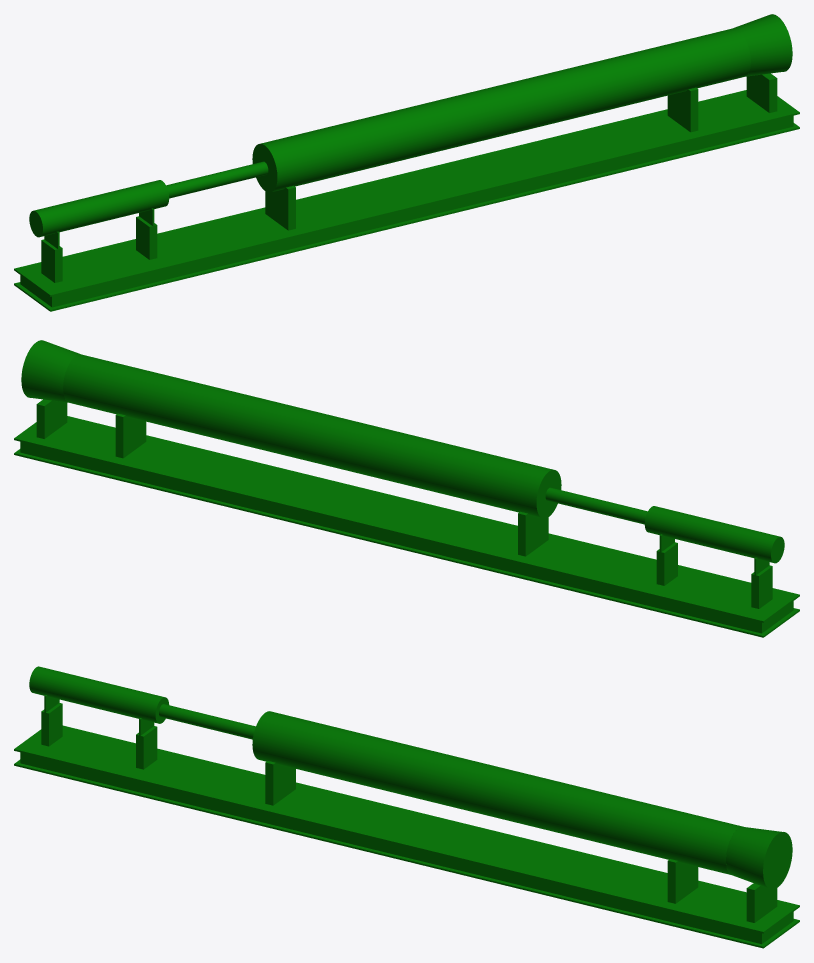
Rendered from Image-1711348148158-2280958134992_27-MX50.fbx.
The picture shows the model from 3 angles, top to bottom: view 1: azimuth 30°, elevation 25°; view 2: azimuth 150°, elevation 25°; view 3: azimuth 330°, elevation 25°; orthographic projection.
Parts seen in each view (by area): view 1: BOX 3 of SUBEQUIPMENT /PIG-HANDLING-RIG-PRIM, CYLINDER 1 of SUBEQUIPMENT /PIG-HANDLING-RIG-PRIM, BOX 2 of SUBEQUIPMENT /PIG-HANDLING-RIG-PRIM, CYLINDER 3 of SUBEQUIPMENT /PIG-HANDLING-RIG-PRIM, BOX 1 of SUBEQUIPMENT /PIG-HANDLING-RIG-PRIM, CONE 1 of SUBEQUIPMENT /PIG-HANDLING-RIG-PRIM, CYLINDER 2 of SUBEQUIPMENT /PIG-HANDLING-RIG-PRIM, BOX 9 of SUBEQUIPMENT /PIG-HANDLING-RIG-PRIM, BOX 8 of SUBEQUIPMENT /PIG-HANDLING-RIG-PRIM, BOX 10 of SUBEQUIPMENT /PIG-HANDLING-RIG-PRIM, BOX 4 of SUBEQUIPMENT /PIG-HANDLING-RIG-PRIM, BOX 7 of SUBEQUIPMENT /PIG-HANDLING-RIG-PRIM; view 2: BOX 3 of SUBEQUIPMENT /PIG-HANDLING-RIG-PRIM, CYLINDER 1 of SUBEQUIPMENT /PIG-HANDLING-RIG-PRIM, BOX 2 of SUBEQUIPMENT /PIG-HANDLING-RIG-PRIM, CYLINDER 3 of SUBEQUIPMENT /PIG-HANDLING-RIG-PRIM, BOX 1 of SUBEQUIPMENT /PIG-HANDLING-RIG-PRIM, CONE 1 of SUBEQUIPMENT /PIG-HANDLING-RIG-PRIM, CYLINDER 2 of SUBEQUIPMENT /PIG-HANDLING-RIG-PRIM, BOX 9 of SUBEQUIPMENT /PIG-HANDLING-RIG-PRIM, BOX 8 of SUBEQUIPMENT /PIG-HANDLING-RIG-PRIM, BOX 10 of SUBEQUIPMENT /PIG-HANDLING-RIG-PRIM, BOX 4 of SUBEQUIPMENT /PIG-HANDLING-RIG-PRIM, BOX 7 of SUBEQUIPMENT /PIG-HANDLING-RIG-PRIM; view 3: BOX 3 of SUBEQUIPMENT /PIG-HANDLING-RIG-PRIM, CYLINDER 1 of SUBEQUIPMENT /PIG-HANDLING-RIG-PRIM, BOX 2 of SUBEQUIPMENT /PIG-HANDLING-RIG-PRIM, CYLINDER 3 of SUBEQUIPMENT /PIG-HANDLING-RIG-PRIM, BOX 1 of SUBEQUIPMENT /PIG-HANDLING-RIG-PRIM, CONE 1 of SUBEQUIPMENT /PIG-HANDLING-RIG-PRIM, CYLINDER 2 of SUBEQUIPMENT /PIG-HANDLING-RIG-PRIM, BOX 9 of SUBEQUIPMENT /PIG-HANDLING-RIG-PRIM, BOX 8 of SUBEQUIPMENT /PIG-HANDLING-RIG-PRIM, BOX 10 of SUBEQUIPMENT /PIG-HANDLING-RIG-PRIM, BOX 4 of SUBEQUIPMENT /PIG-HANDLING-RIG-PRIM, BOX 7 of SUBEQUIPMENT /PIG-HANDLING-RIG-PRIM.
Part boxes in pixels (x1,y1,x2,y2): BOX 3 of SUBEQUIPMENT /PIG-HANDLING-RIG-PRIM: (14, 90, 799, 296); CYLINDER 1 of SUBEQUIPMENT /PIG-HANDLING-RIG-PRIM: (252, 28, 750, 192); BOX 2 of SUBEQUIPMENT /PIG-HANDLING-RIG-PRIM: (20, 115, 793, 307); CYLINDER 3 of SUBEQUIPMENT /PIG-HANDLING-RIG-PRIM: (29, 180, 169, 237); BOX 1 of SUBEQUIPMENT /PIG-HANDLING-RIG-PRIM: (14, 123, 799, 311); CONE 1 of SUBEQUIPMENT /PIG-HANDLING-RIG-PRIM: (733, 14, 792, 76); CYLINDER 2 of SUBEQUIPMENT /PIG-HANDLING-RIG-PRIM: (166, 161, 268, 198); BOX 9 of SUBEQUIPMENT /PIG-HANDLING-RIG-PRIM: (667, 87, 698, 132); BOX 8 of SUBEQUIPMENT /PIG-HANDLING-RIG-PRIM: (265, 185, 295, 230); BOX 10 of SUBEQUIPMENT /PIG-HANDLING-RIG-PRIM: (746, 73, 777, 112); BOX 4 of SUBEQUIPMENT /PIG-HANDLING-RIG-PRIM: (41, 239, 62, 282); BOX 7 of SUBEQUIPMENT /PIG-HANDLING-RIG-PRIM: (136, 216, 157, 259); BOX 3 of SUBEQUIPMENT /PIG-HANDLING-RIG-PRIM: (14, 416, 799, 622); CYLINDER 1 of SUBEQUIPMENT /PIG-HANDLING-RIG-PRIM: (63, 354, 561, 518); BOX 2 of SUBEQUIPMENT /PIG-HANDLING-RIG-PRIM: (20, 441, 793, 633); CYLINDER 3 of SUBEQUIPMENT /PIG-HANDLING-RIG-PRIM: (644, 506, 784, 563); BOX 1 of SUBEQUIPMENT /PIG-HANDLING-RIG-PRIM: (14, 449, 799, 637); CONE 1 of SUBEQUIPMENT /PIG-HANDLING-RIG-PRIM: (21, 340, 80, 402); CYLINDER 2 of SUBEQUIPMENT /PIG-HANDLING-RIG-PRIM: (545, 487, 647, 524); BOX 9 of SUBEQUIPMENT /PIG-HANDLING-RIG-PRIM: (115, 413, 146, 458); BOX 8 of SUBEQUIPMENT /PIG-HANDLING-RIG-PRIM: (518, 511, 548, 556); BOX 10 of SUBEQUIPMENT /PIG-HANDLING-RIG-PRIM: (36, 399, 67, 438); BOX 4 of SUBEQUIPMENT /PIG-HANDLING-RIG-PRIM: (751, 565, 772, 608); BOX 7 of SUBEQUIPMENT /PIG-HANDLING-RIG-PRIM: (656, 542, 677, 585); BOX 3 of SUBEQUIPMENT /PIG-HANDLING-RIG-PRIM: (14, 725, 799, 933); CYLINDER 1 of SUBEQUIPMENT /PIG-HANDLING-RIG-PRIM: (252, 711, 742, 874); BOX 2 of SUBEQUIPMENT /PIG-HANDLING-RIG-PRIM: (20, 752, 793, 944); CYLINDER 3 of SUBEQUIPMENT /PIG-HANDLING-RIG-PRIM: (29, 666, 169, 723); BOX 1 of SUBEQUIPMENT /PIG-HANDLING-RIG-PRIM: (14, 759, 799, 948); CONE 1 of SUBEQUIPMENT /PIG-HANDLING-RIG-PRIM: (726, 826, 792, 889); CYLINDER 2 of SUBEQUIPMENT /PIG-HANDLING-RIG-PRIM: (159, 704, 255, 739); BOX 9 of SUBEQUIPMENT /PIG-HANDLING-RIG-PRIM: (667, 859, 698, 903); BOX 8 of SUBEQUIPMENT /PIG-HANDLING-RIG-PRIM: (265, 761, 295, 805); BOX 10 of SUBEQUIPMENT /PIG-HANDLING-RIG-PRIM: (746, 883, 777, 922); BOX 4 of SUBEQUIPMENT /PIG-HANDLING-RIG-PRIM: (41, 703, 62, 746); BOX 7 of SUBEQUIPMENT /PIG-HANDLING-RIG-PRIM: (136, 726, 157, 769).
Bounding box in the file's own units: 9.5 × 0.8 × 1.22.
